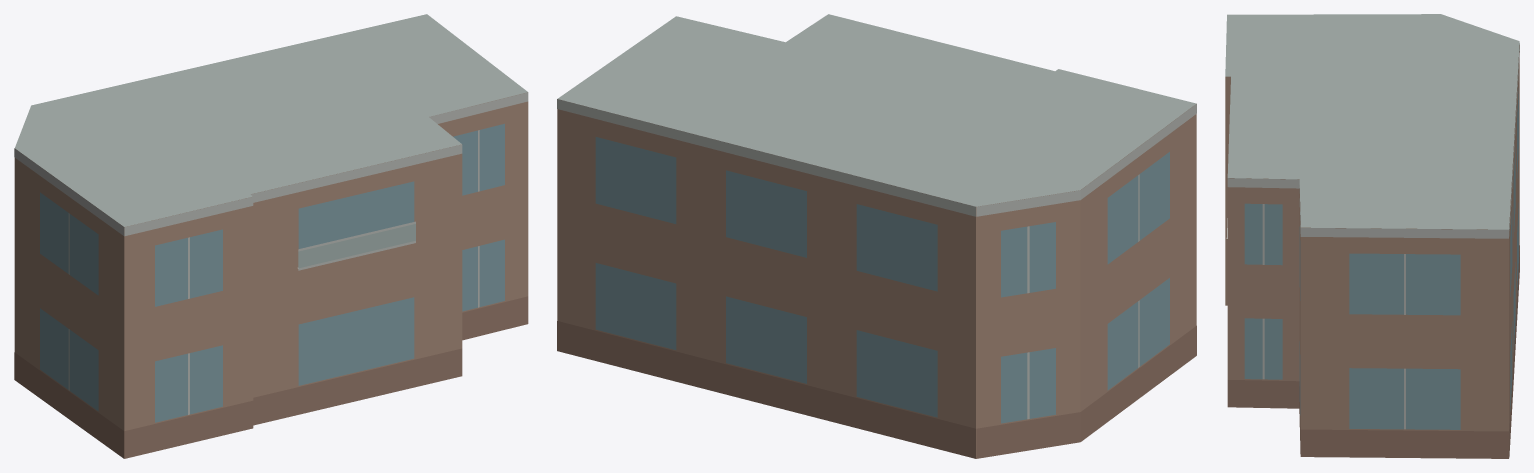
Rendered from survey-upis-32637254.glb.
3 renders of one model, left to right at view 1: azimuth 30°, elevation 25°; view 2: azimuth 150°, elevation 25°; view 3: azimuth 270°, elevation 25°, orthographic. The views are drawn at different scales.
Parts seen in each view (by area): view 1: survey-upis-32637254.tmp; view 2: survey-upis-32637254.tmp; view 3: survey-upis-32637254.tmp.
Part boxes in pixels (bbox=[...]): survey-upis-32637254.tmp: bbox=[14, 14, 528, 458]; survey-upis-32637254.tmp: bbox=[557, 14, 1196, 458]; survey-upis-32637254.tmp: bbox=[1225, 14, 1519, 458].
Size of the model in its own units: 12.32 by 6.1 by 7.11.
